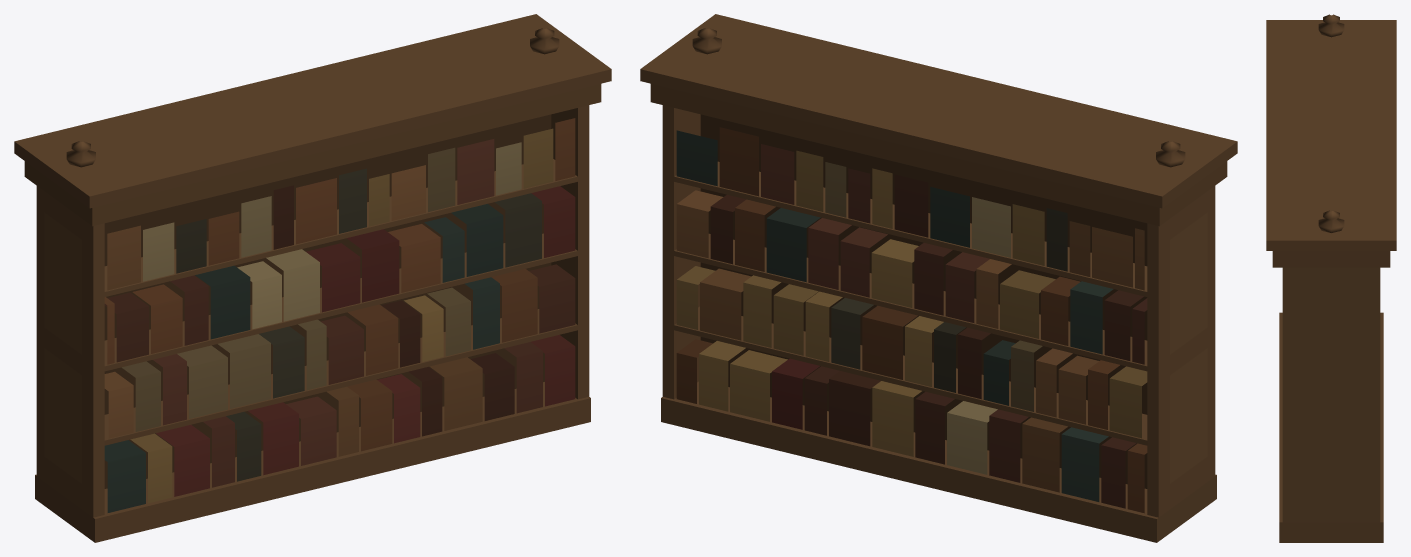
File: bookcase.double.oak.glb
The picture shows the model from 3 angles, left to right: view 1: azimuth 30°, elevation 25°; view 2: azimuth 150°, elevation 25°; view 3: azimuth 270°, elevation 25°; orthographic projection. The views are drawn at different scales.
Parts seen in each view (by area): view 1: bookcase_double_oak; view 2: bookcase_double_oak; view 3: bookcase_double_oak.
Boxes of the visible parts, x1,y1,x2,y2 form: bookcase_double_oak: (14, 14, 611, 542); bookcase_double_oak: (640, 14, 1237, 542); bookcase_double_oak: (1266, 14, 1396, 542).
Size of what is drawn, in the model's own units: 3.2 by 2.2 by 0.8.
